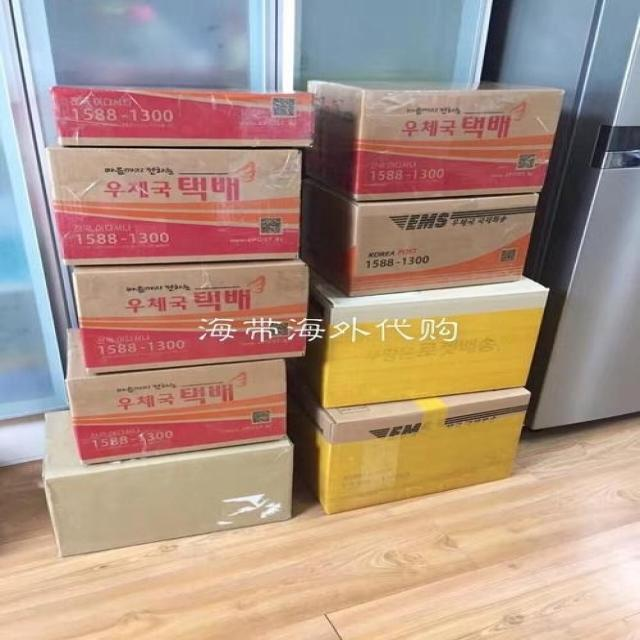box: (285, 359, 531, 515), (42, 408, 294, 557), (287, 266, 549, 408), (301, 79, 567, 202), (46, 138, 301, 266), (64, 328, 287, 467), (300, 175, 540, 297), (72, 258, 310, 375), (51, 86, 316, 150)
